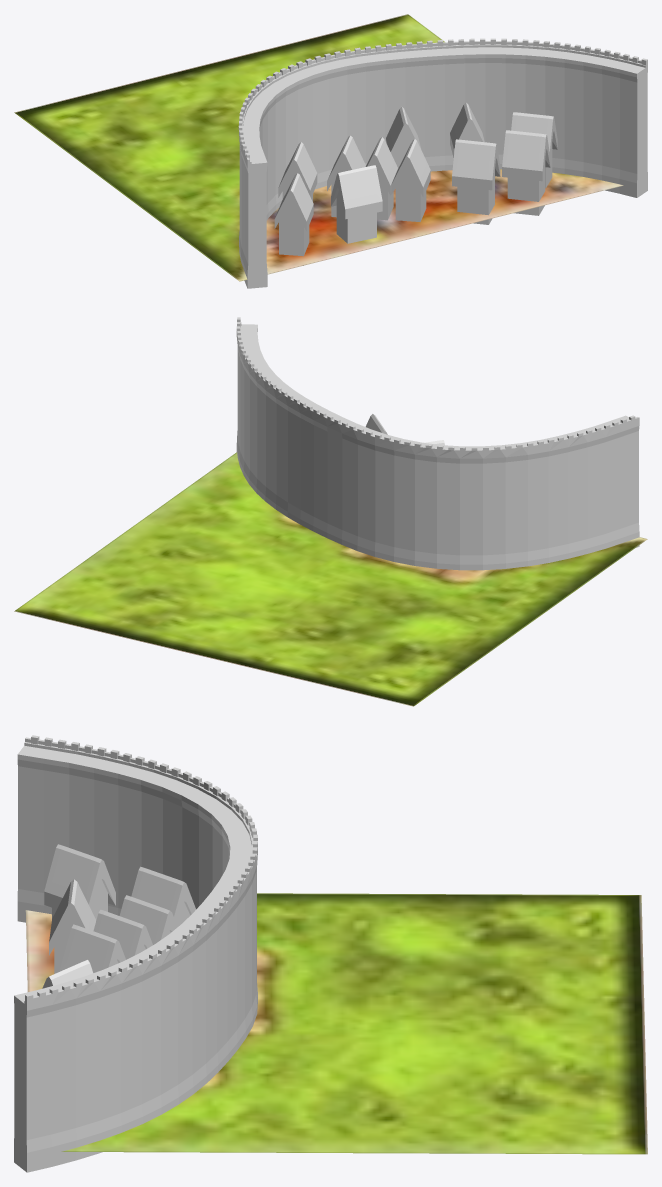
Rendered from tile4.fbx.
3 views of the same model, one above another, from view 1: azimuth 30°, elevation 25°; view 2: azimuth 150°, elevation 25°; view 3: azimuth 270°, elevation 25° (orthographic). The views are drawn at different scales.
Visible parts, largest first — view 1: tile4; view 2: tile4; view 3: tile4.
Part boxes in pixels (x1,y1,x2,y2): tile4: (14,14,647,288); tile4: (14,317,647,706); tile4: (14,735,647,1172).
Bounding box in the file's own units: 103 × 32.6 × 103.
